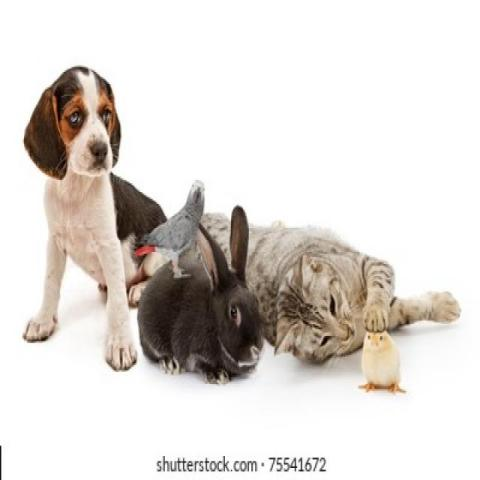bird: (125, 178, 207, 282)
small_animal: (23, 63, 182, 398), (185, 206, 464, 365), (135, 205, 259, 384), (360, 327, 407, 398)
